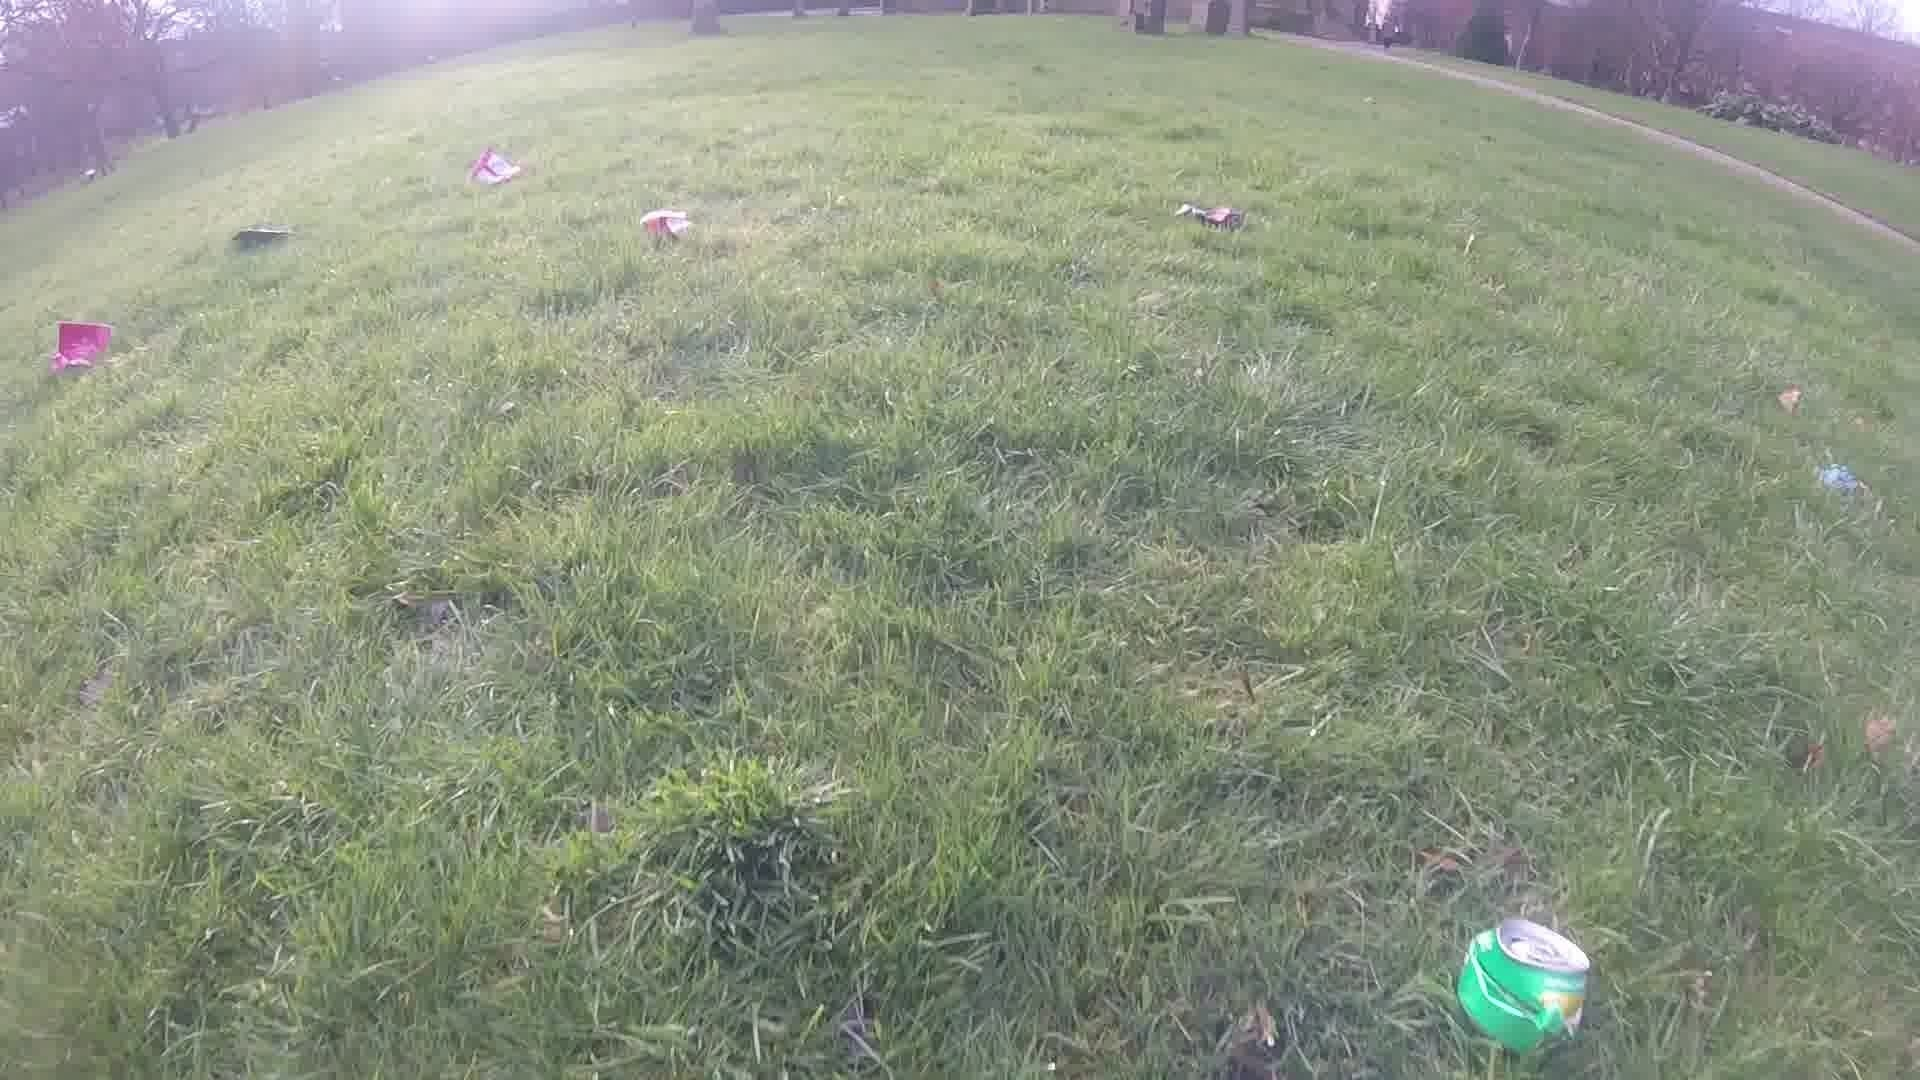litter: (1457, 914, 1588, 1062), (51, 320, 113, 375), (467, 146, 521, 189), (1168, 200, 1244, 228), (637, 208, 690, 243), (1815, 464, 1859, 496), (227, 228, 287, 241)
